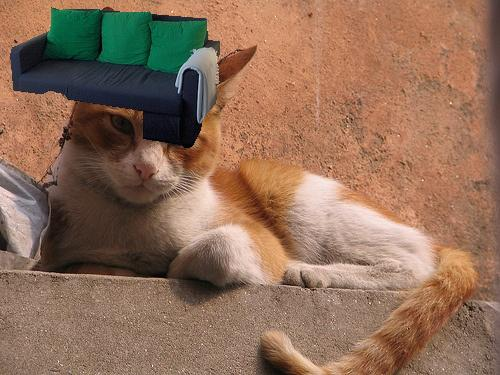tampered: (11, 8, 220, 148)
